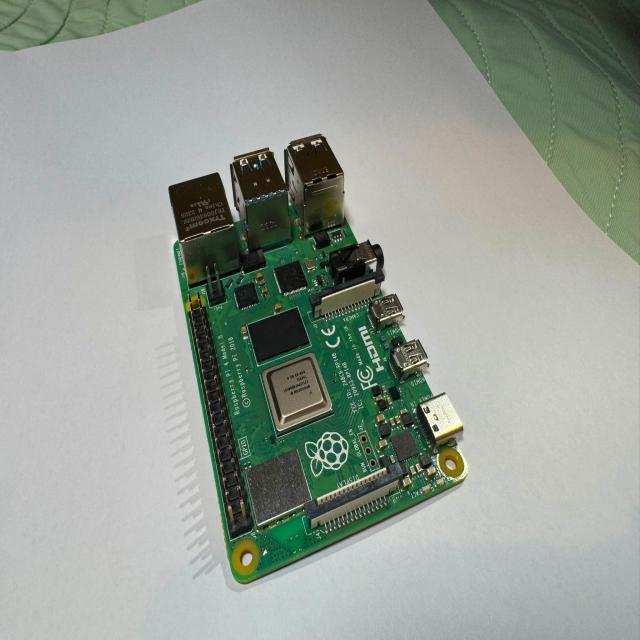CPU: (261, 353, 334, 438)
Ethernet: (168, 174, 242, 294)
GPIO: (186, 302, 255, 540)
RAM: (247, 311, 311, 369)
Raspberry: (168, 135, 468, 592)
micro-hdmi: (367, 290, 406, 332), (392, 339, 424, 373)
